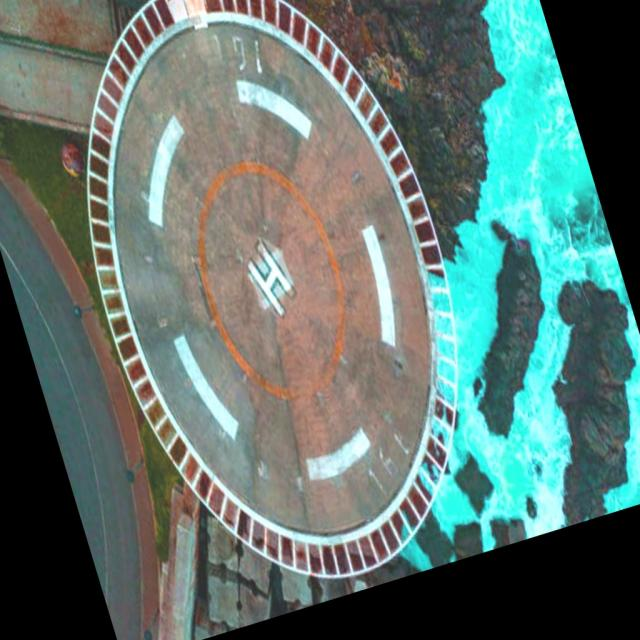helipad: (190, 155, 348, 403)
